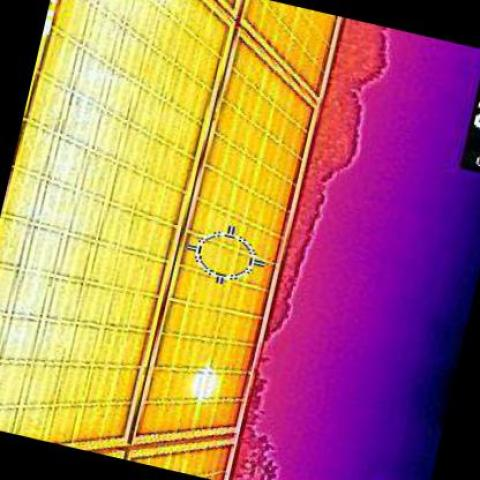fault: (196, 365, 218, 396)
